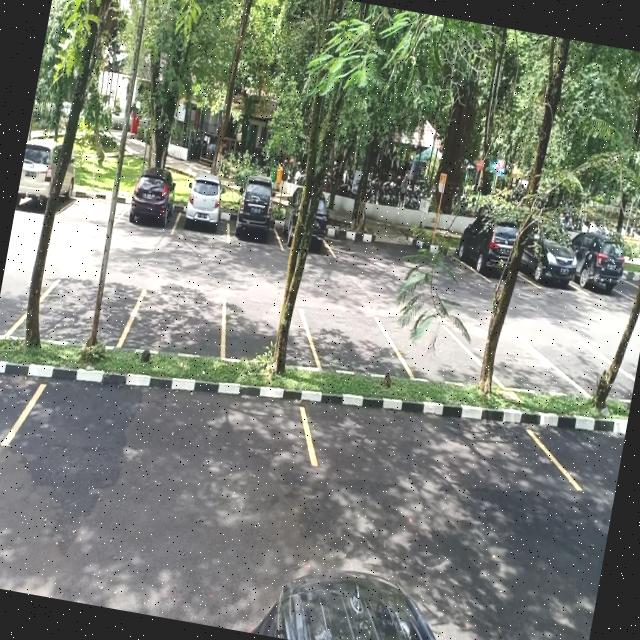empty: (8, 356, 320, 506), (308, 386, 554, 504), (20, 268, 142, 364), (128, 284, 232, 361), (302, 304, 401, 379), (393, 316, 487, 391), (218, 298, 311, 370), (490, 334, 567, 403), (59, 166, 124, 231)
occupied: (114, 175, 184, 242), (173, 182, 236, 245), (227, 185, 286, 252)
